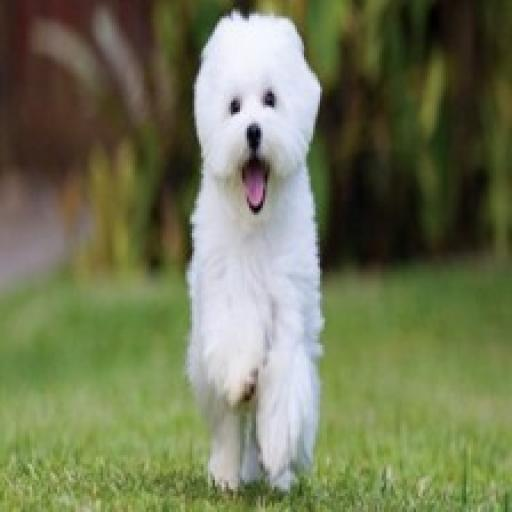dog: (170, 9, 331, 501)
